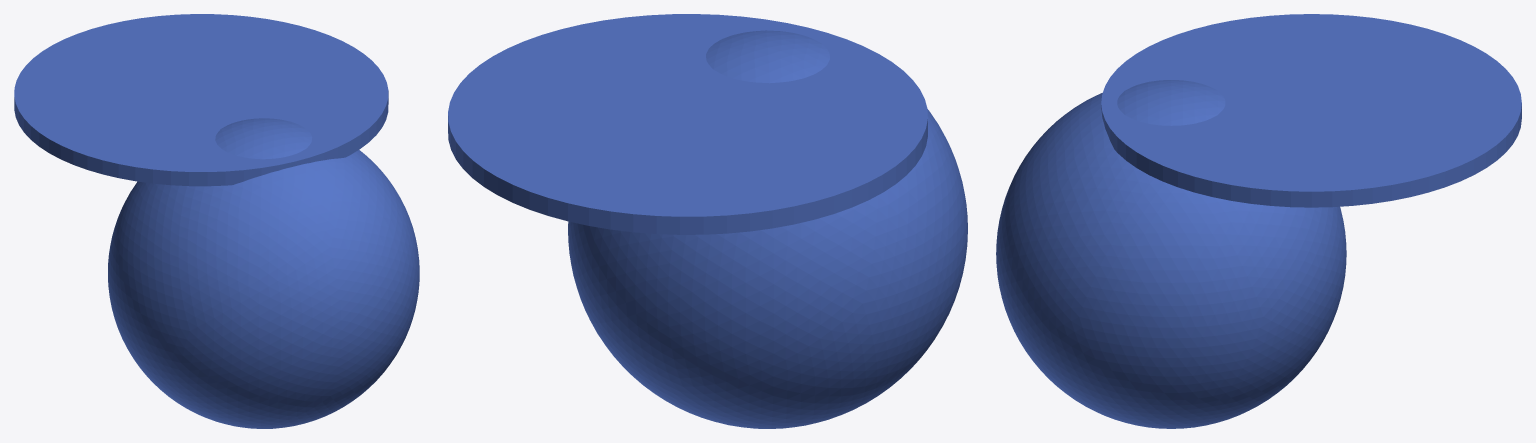
Rendered from cotton_blue_baseball_cap.glb.
3 renders of one model, left to right at view 1: azimuth 30°, elevation 25°; view 2: azimuth 150°, elevation 25°; view 3: azimuth 270°, elevation 25°, orthographic. The views are drawn at different scales.
Parts seen in each view (by area): view 1: world; view 2: world; view 3: world.
Boxes of the visible parts, left/top/right/bottom form: world: left=14, top=14, right=419, bottom=428; world: left=448, top=14, right=967, bottom=428; world: left=996, top=14, right=1521, bottom=428.
Size of the model in its own units: 0.24 by 0.2 by 0.3.
